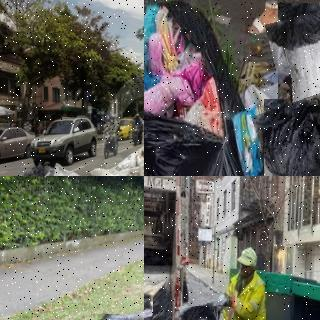Garbage: (271, 0, 320, 140), (257, 93, 320, 176), (178, 304, 220, 320), (144, 288, 153, 320)
